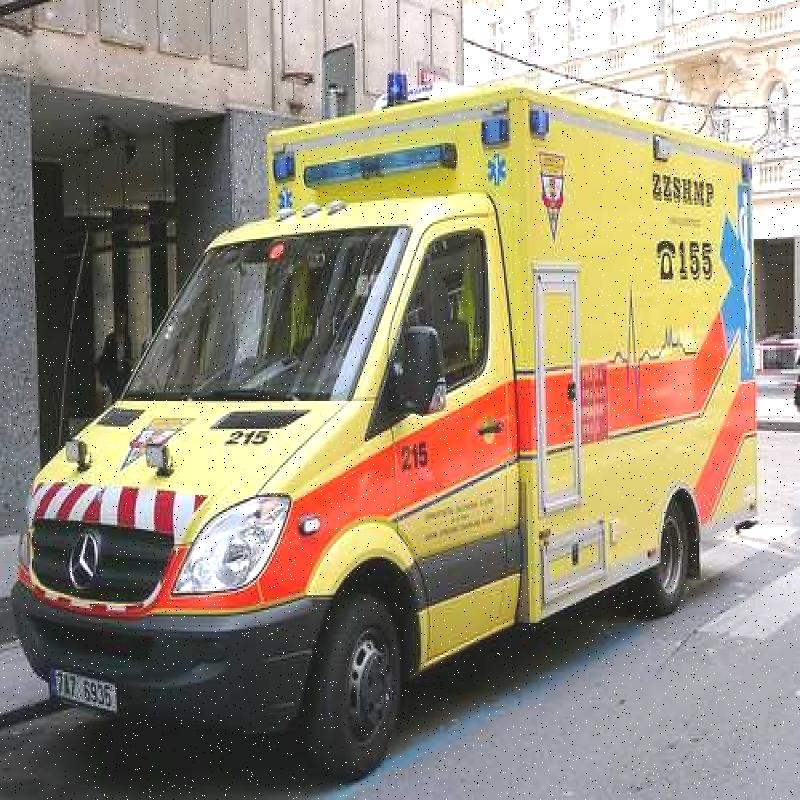AmbulanceSiren: (278, 93, 562, 201), (362, 50, 424, 139)
